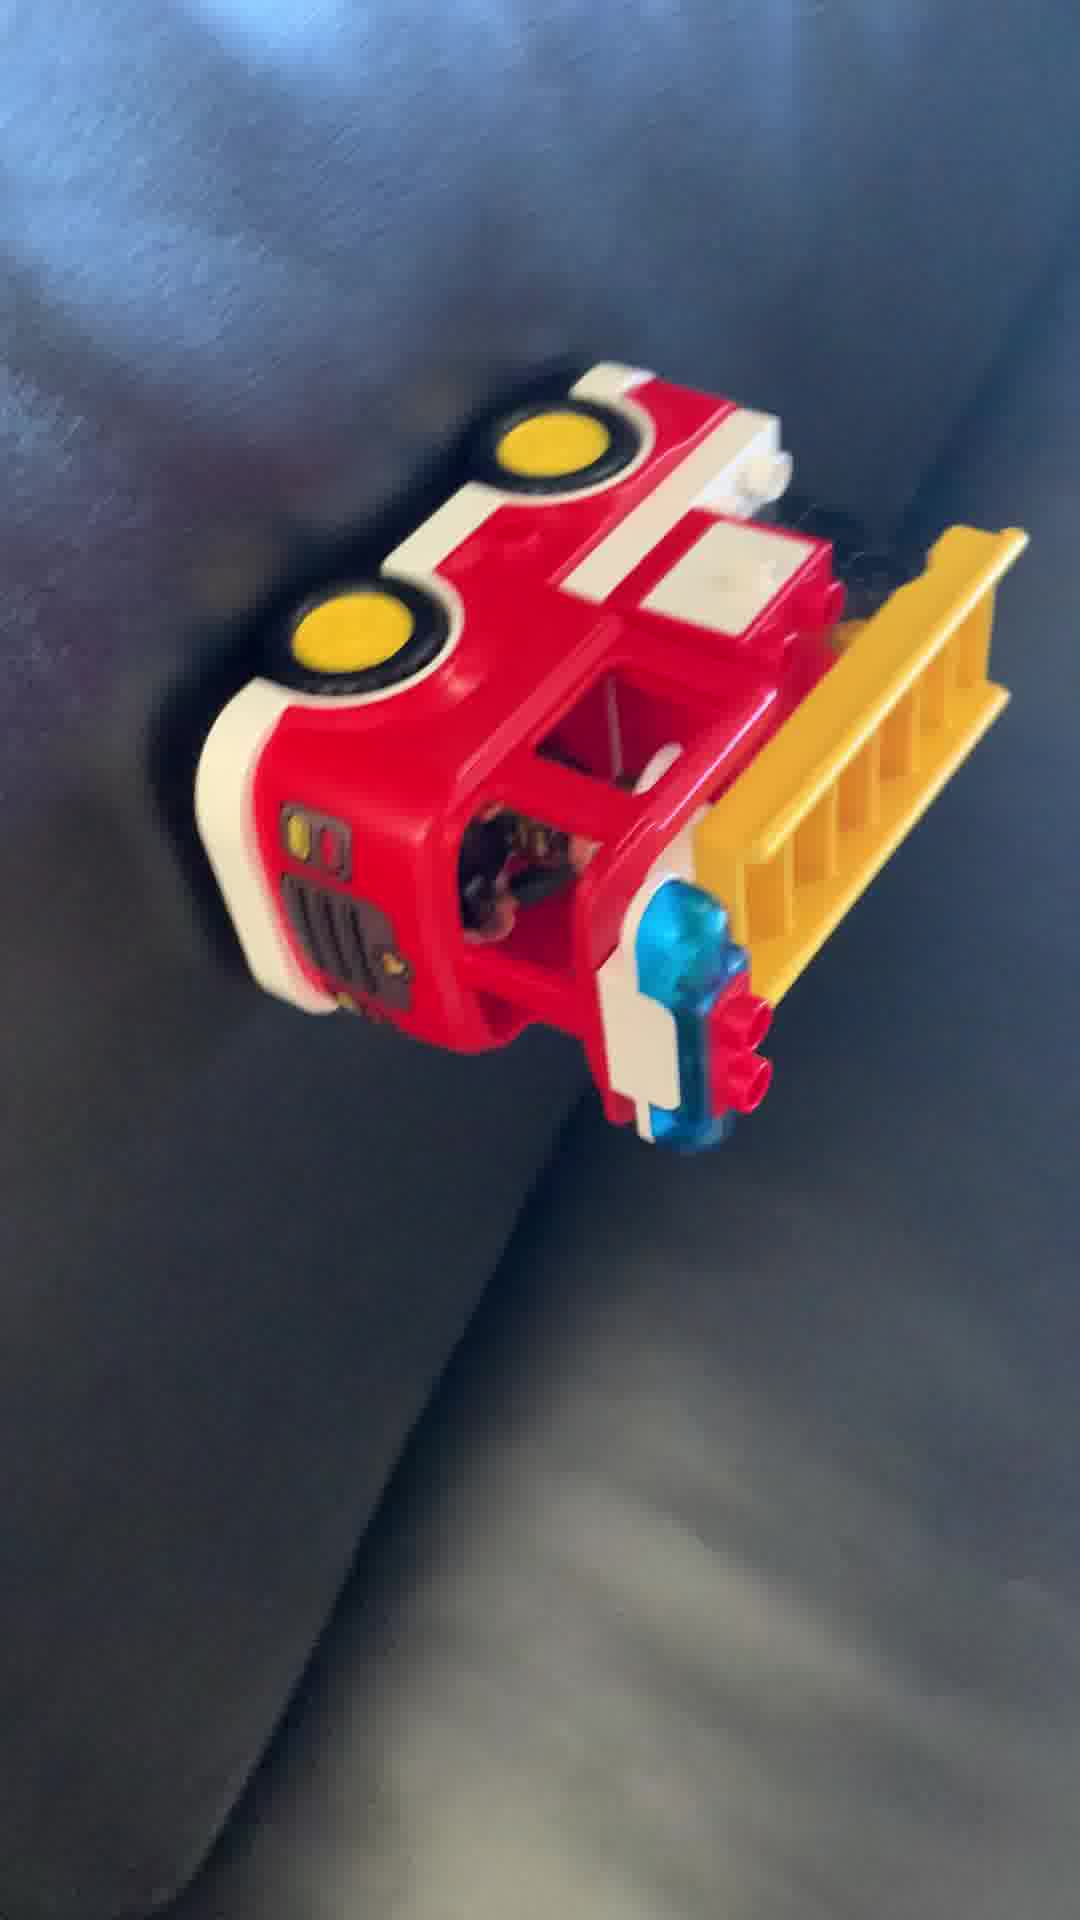lego fire truck: (193, 345, 1025, 1156)
